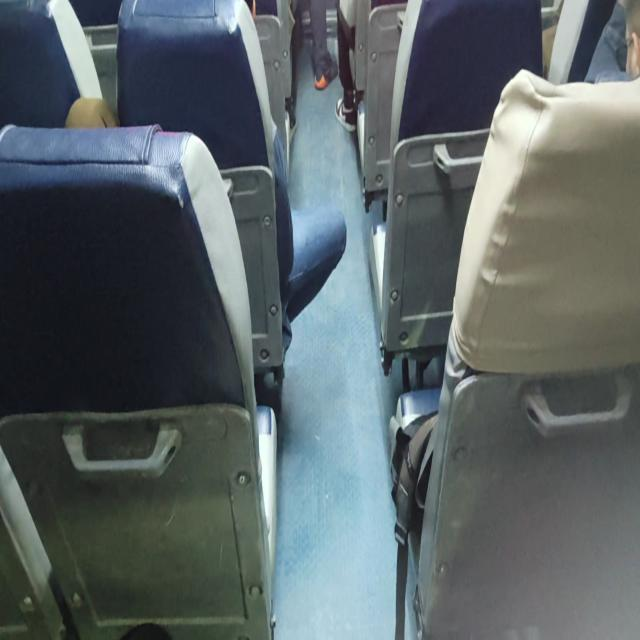person: (602, 0, 639, 100)
